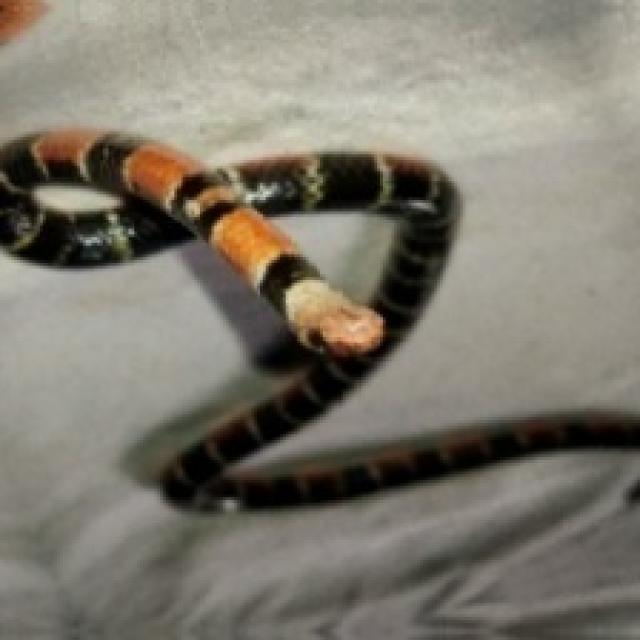barredcoral snake: (1, 129, 640, 509)
